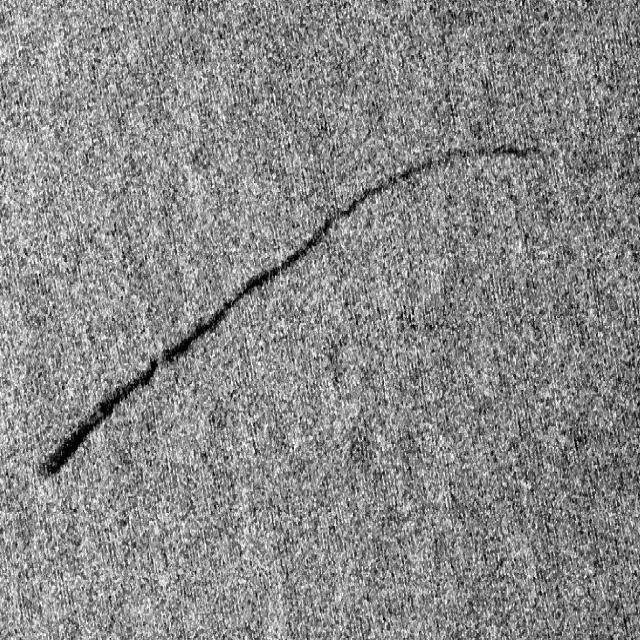ship: (38, 268, 280, 488), (281, 137, 534, 274)
